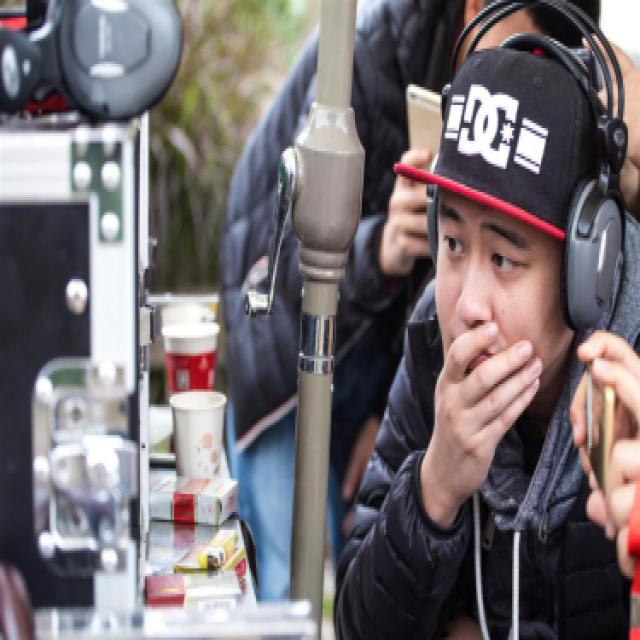mask: (431, 182, 559, 407)
